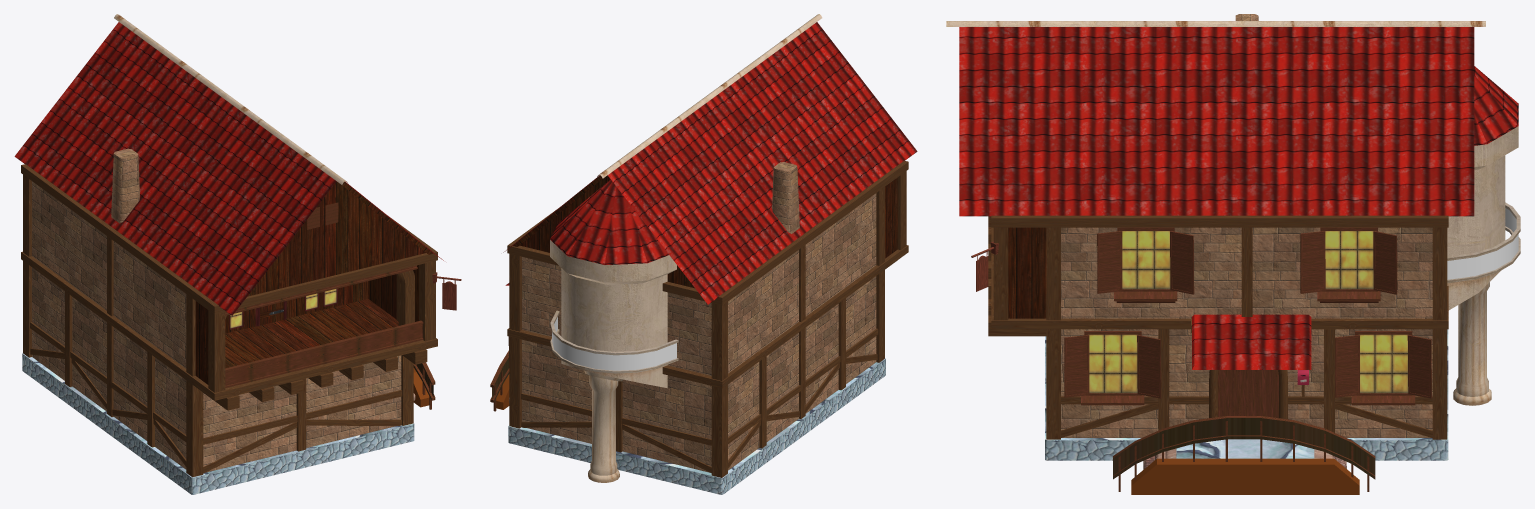
The model's file is House3.fbx.
3 renders of one model, left to right at view 1: azimuth 30°, elevation 25°; view 2: azimuth 150°, elevation 25°; view 3: azimuth 270°, elevation 25°, orthographic. The views are drawn at different scales.
Parts seen in each view (by area): view 1: Combined_House3Root_Mesh_7, Combined_House3Root_Mesh, Combined_House3Root_Mesh_3, Combined_House3Root_Mesh_1, Combined_House3Root_Mesh_2, Combined_House3Root_Mesh_5, Combined_House3Root_Mesh_4, Combined_House3Root_Mesh_10, Combined_House3Root_Mesh_18, Combined_House3Root_Mesh_6; view 2: Combined_House3Root_Mesh_7, Combined_House3Root_Mesh, Combined_House3Root_Mesh_3, Combined_House3Root_Mesh_11, Combined_House3Root_Mesh_2, Combined_House3Root_Mesh_12, Combined_House3Root_Mesh_1, Combined_House3Root_Mesh_17, Combined_House3Root_Mesh_4, Combined_House3Root_Mesh_16, Combined_House3Root_Mesh_5; view 3: Combined_House3Root_Mesh_7, Combined_House3Root_Mesh, Combined_House3Root_Mesh_9, Combined_House3Root_Mesh_3, Combined_House3Root_Mesh_8, Combined_House3Root_Mesh_5, Combined_House3Root_Mesh_2, Combined_House3Root_Mesh_11, Combined_House3Root_Mesh_1, Combined_House3Root_Mesh_12, Combined_House3Root_Mesh_4, Combined_House3Root_Mesh_13 (+2 smaller).
Part boxes in pixels (x1=…): Combined_House3Root_Mesh_7: x1=14, y1=22, x2=443, y2=315; Combined_House3Root_Mesh: x1=32, y1=148, x2=401, y2=472; Combined_House3Root_Mesh_3: x1=21, y1=164, x2=437, y2=477; Combined_House3Root_Mesh_1: x1=195, y1=181, x2=433, y2=384; Combined_House3Root_Mesh_2: x1=22, y1=353, x2=414, y2=494; Combined_House3Root_Mesh_5: x1=225, y1=202, x2=435, y2=409; Combined_House3Root_Mesh_4: x1=114, y1=14, x2=348, y2=184; Combined_House3Root_Mesh_10: x1=229, y1=288, x2=337, y2=329; Combined_House3Root_Mesh_18: x1=255, y1=301, x2=286, y2=326; Combined_House3Root_Mesh_6: x1=432, y1=272, x2=461, y2=310; Combined_House3Root_Mesh_7: x1=503, y1=22, x2=917, y2=304; Combined_House3Root_Mesh: x1=522, y1=162, x2=876, y2=472; Combined_House3Root_Mesh_3: x1=507, y1=160, x2=908, y2=477; Combined_House3Root_Mesh_11: x1=550, y1=240, x2=676, y2=388; Combined_House3Root_Mesh_2: x1=508, y1=358, x2=885, y2=494; Combined_House3Root_Mesh_12: x1=584, y1=370, x2=622, y2=482; Combined_House3Root_Mesh_1: x1=513, y1=175, x2=897, y2=288; Combined_House3Root_Mesh_17: x1=552, y1=317, x2=676, y2=370; Combined_House3Root_Mesh_4: x1=597, y1=14, x2=822, y2=178; Combined_House3Root_Mesh_16: x1=550, y1=310, x2=678, y2=373; Combined_House3Root_Mesh_5: x1=490, y1=350, x2=509, y2=411; Combined_House3Root_Mesh_7: x1=959, y1=27, x2=1518, y2=369; Combined_House3Root_Mesh: x1=1061, y1=14, x2=1432, y2=437; Combined_House3Root_Mesh_9: x1=1064, y1=227, x2=1431, y2=405; Combined_House3Root_Mesh_3: x1=988, y1=215, x2=1448, y2=439; Combined_House3Root_Mesh_8: x1=1131, y1=458, x2=1359, y2=494; Combined_House3Root_Mesh_5: x1=1113, y1=416, x2=1375, y2=491; Combined_House3Root_Mesh_2: x1=1045, y1=329, x2=1448, y2=460; Combined_House3Root_Mesh_11: x1=1447, y1=126, x2=1518, y2=310; Combined_House3Root_Mesh_1: x1=1008, y1=227, x2=1046, y2=318; Combined_House3Root_Mesh_12: x1=1453, y1=282, x2=1491, y2=405; Combined_House3Root_Mesh_4: x1=946, y1=21, x2=1485, y2=26; Combined_House3Root_Mesh_13: x1=1218, y1=370, x2=1278, y2=417.
Bounding box in the file's own units: 1383 × 1495 × 2050.
